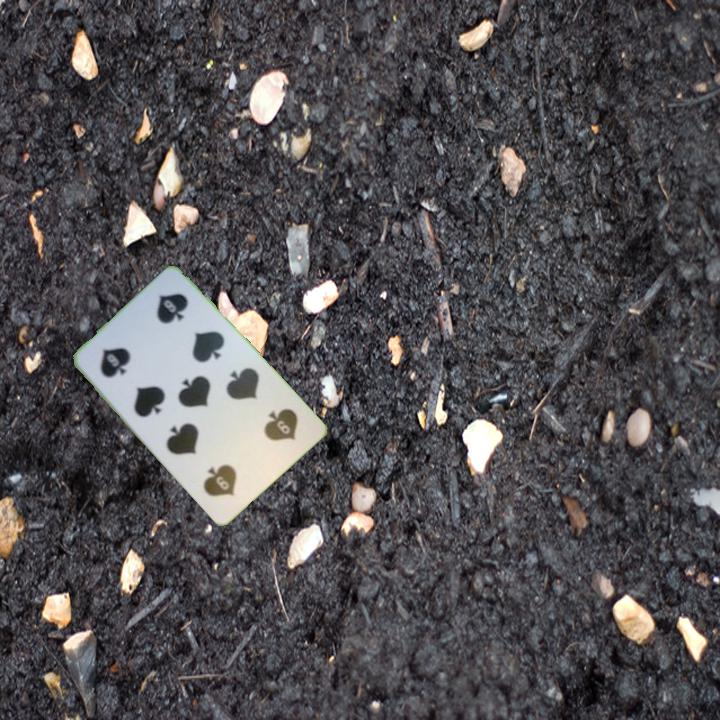s_9.png: (81, 316, 167, 401), (229, 388, 315, 473)
